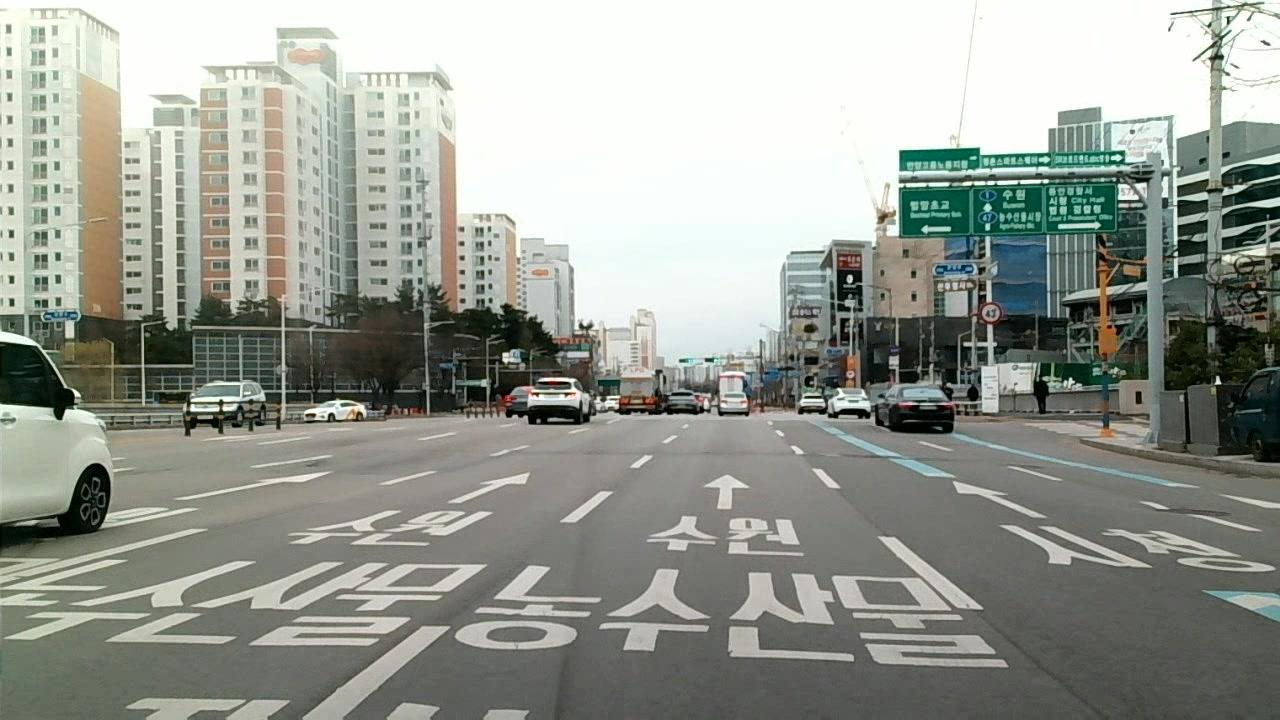vcrack: (979, 614, 1110, 720), (834, 487, 882, 532)
